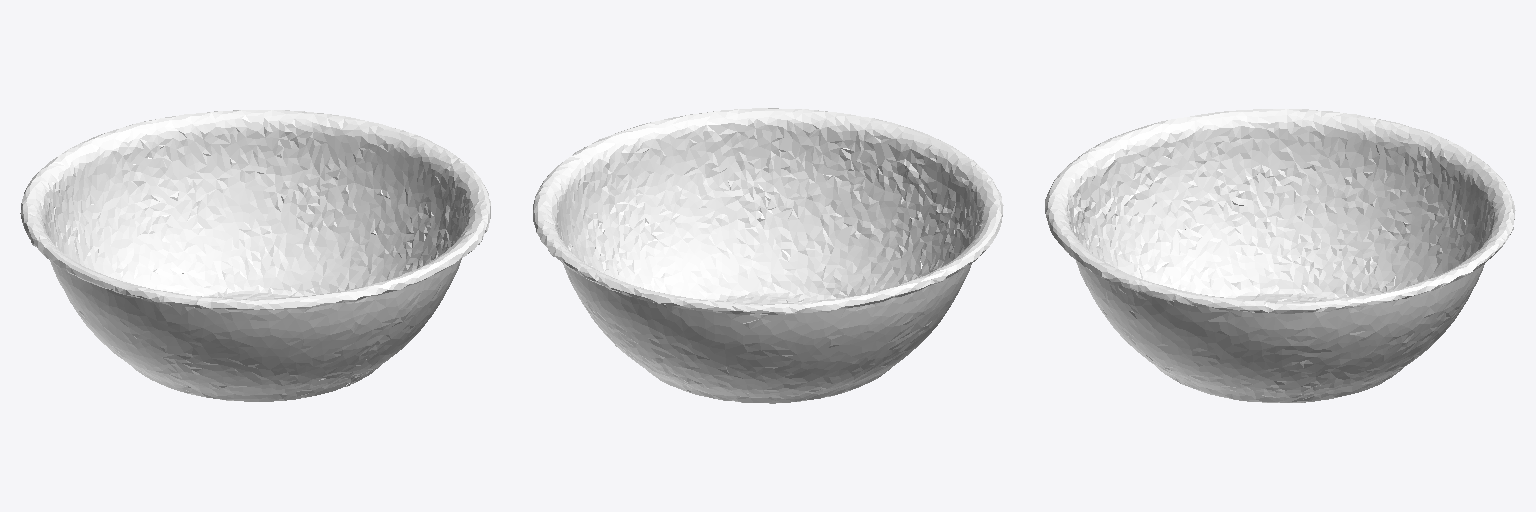
robot.urdf — 024_bowl:
<robot name="024_bowl">
	<link name="_name">
		<visual>
			<origin xyz="0.1474002972935411 0.4386218798850483 -0.54479" rpy="0 0 0" />
			<geometry>
				<mesh filename="024_bowl/google_16k/nontextured.obj" scale="10 10 10" />
			</geometry>
			<material name="texture">
				<color rgba="1.0 1.0 1.0 1.0" />
			</material>
		</visual>
		<collision>
			<geometry>
				<mesh filename="024_bowl/google_16k/nontextured_vhacd.obj" scale="10 10 10" />
			</geometry>
		<origin xyz="0.1474002972935411 0.4386218798850483 -0.54479" rpy="0 0 0" /></collision>
		<inertial>
			<mass value="1.0" />
			<inertia ixx="1.0" ixy="0.0" ixz="0.0" iyy="1.0" iyz="0.0" izz="1.0" />
		</inertial>
	</link>
</robot>

--- Render facts (derived) ---
Views: 3 orthographic renders of the robot side by side, from view 1: azimuth 30°, elevation 25°; view 2: azimuth 150°, elevation 25°; view 3: azimuth 270°, elevation 25°.
Model 024_bowl with 1 links and 0 joints (none), rooted at _name, posed all joints at 0.
Links seen in each view (by area): view 1: _name; view 2: _name; view 3: _name.
Link boxes in pixels (x1=…): _name: x1=20, y1=110, x2=490, y2=401; _name: x1=533, y1=108, x2=1003, y2=403; _name: x1=1045, y1=109, x2=1515, y2=402.
Size in the robot's own frame: 1.61 by 1.61 by 0.5501 metres.
Meshes: 1 distinct files referenced, 1 mesh visuals loaded (1 OBJ).